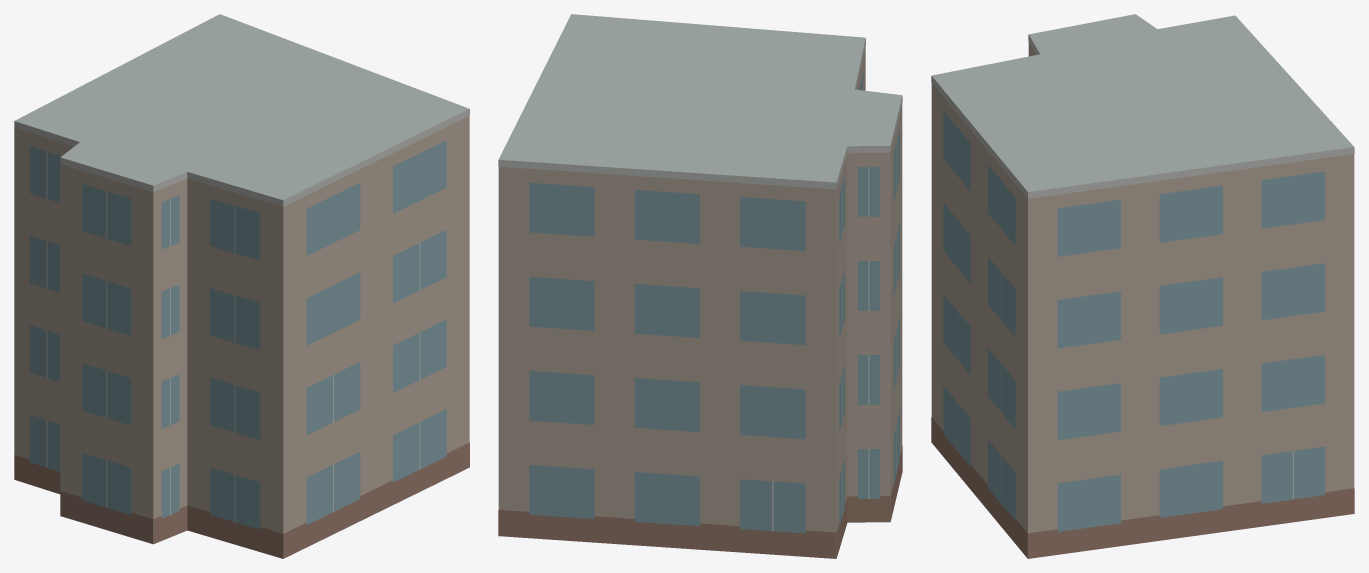
File: survey-upis-32947718.glb
3 views of the same model, side by side, from view 1: azimuth 30°, elevation 25°; view 2: azimuth 150°, elevation 25°; view 3: azimuth 270°, elevation 25° (orthographic). The views are drawn at different scales.
Visible parts, largest first — view 1: survey-upis-32947718.tmp; view 2: survey-upis-32947718.tmp; view 3: survey-upis-32947718.tmp.
Part boxes in pixels (left/top/right/bottom): survey-upis-32947718.tmp: left=14, top=14, right=469, bottom=558; survey-upis-32947718.tmp: left=498, top=14, right=902, bottom=558; survey-upis-32947718.tmp: left=931, top=14, right=1354, bottom=558.
Size of the model in its own units: 13.76 by 13.2 by 13.81.
